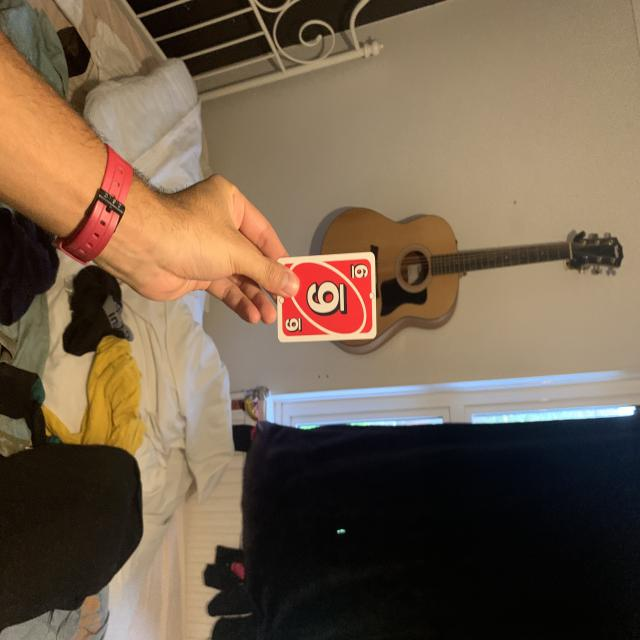lred-6: (346, 258, 371, 282)
